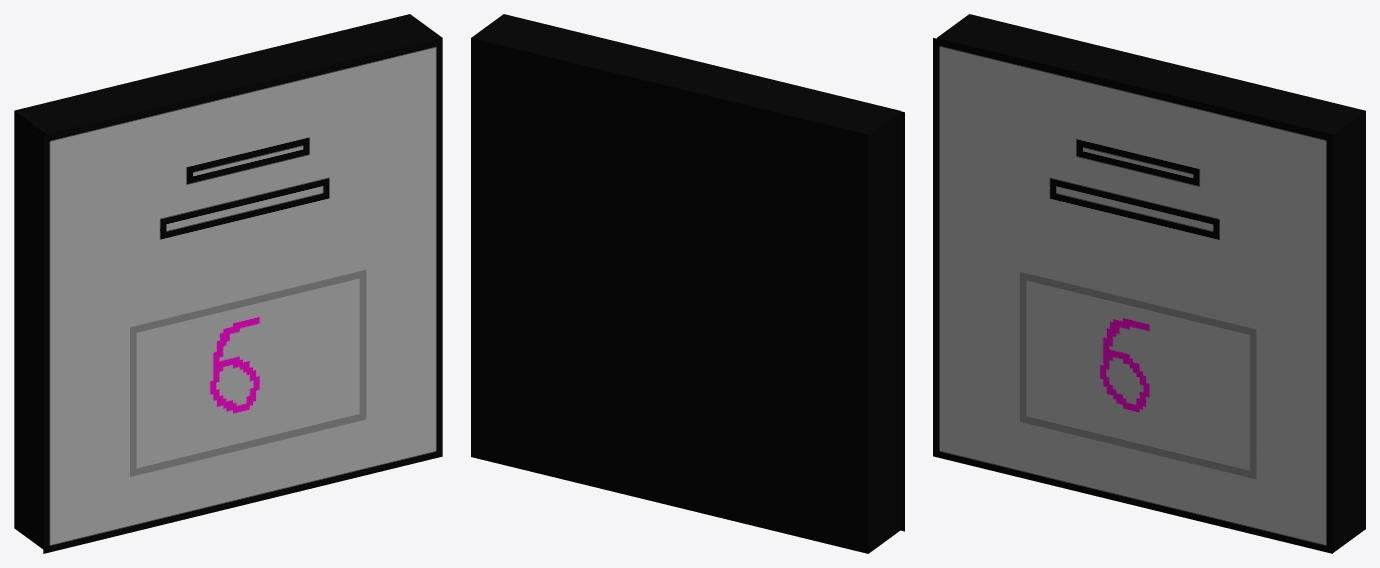
3 renders of one model, left to right at view 1: azimuth 30°, elevation 25°; view 2: azimuth 150°, elevation 25°; view 3: azimuth 330°, elevation 25°, orthographic.
Parts seen in each view (by area): view 1: mesh_id1, mesh_id27; view 2: mesh_id27, mesh_id1; view 3: mesh_id1, mesh_id27.
Boxes of the visible parts, x1=… form: mesh_id1: x1=43, y1=38, x2=442, y2=553; mesh_id27: x1=14, y1=14, x2=442, y2=548; mesh_id27: x1=471, y1=14, x2=900, y2=553; mesh_id1: x1=901, y1=111, x2=904, y2=531; mesh_id1: x1=933, y1=38, x2=1332, y2=553; mesh_id27: x1=936, y1=14, x2=1365, y2=552.
Size of the model in its own units: 1.2 by 1.2 by 0.1706.
Materials: 2 (2 with a texture image).
